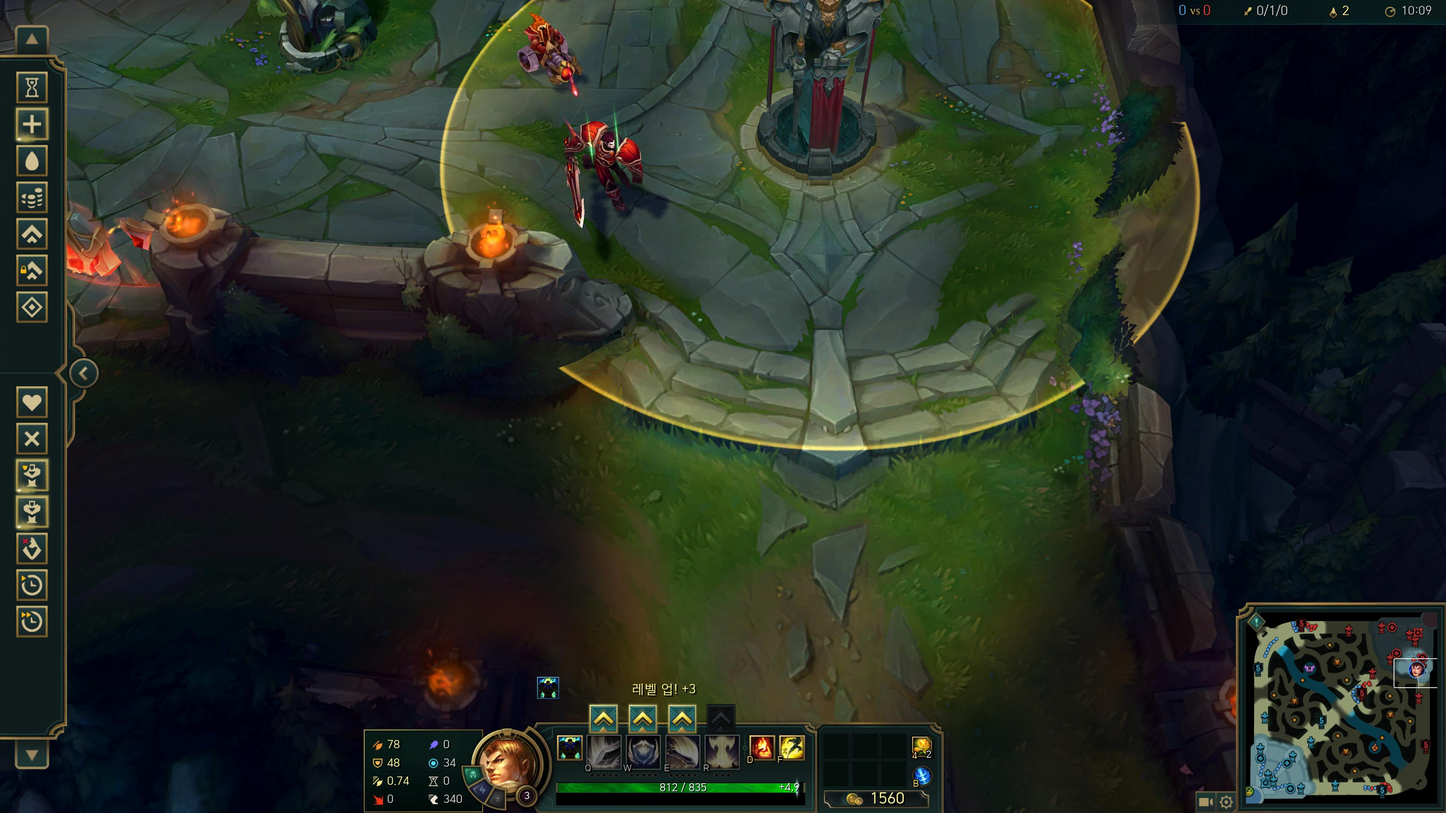enemy-siege-minion: (517, 11, 581, 82)
enemy-tower: (757, 0, 885, 178)
